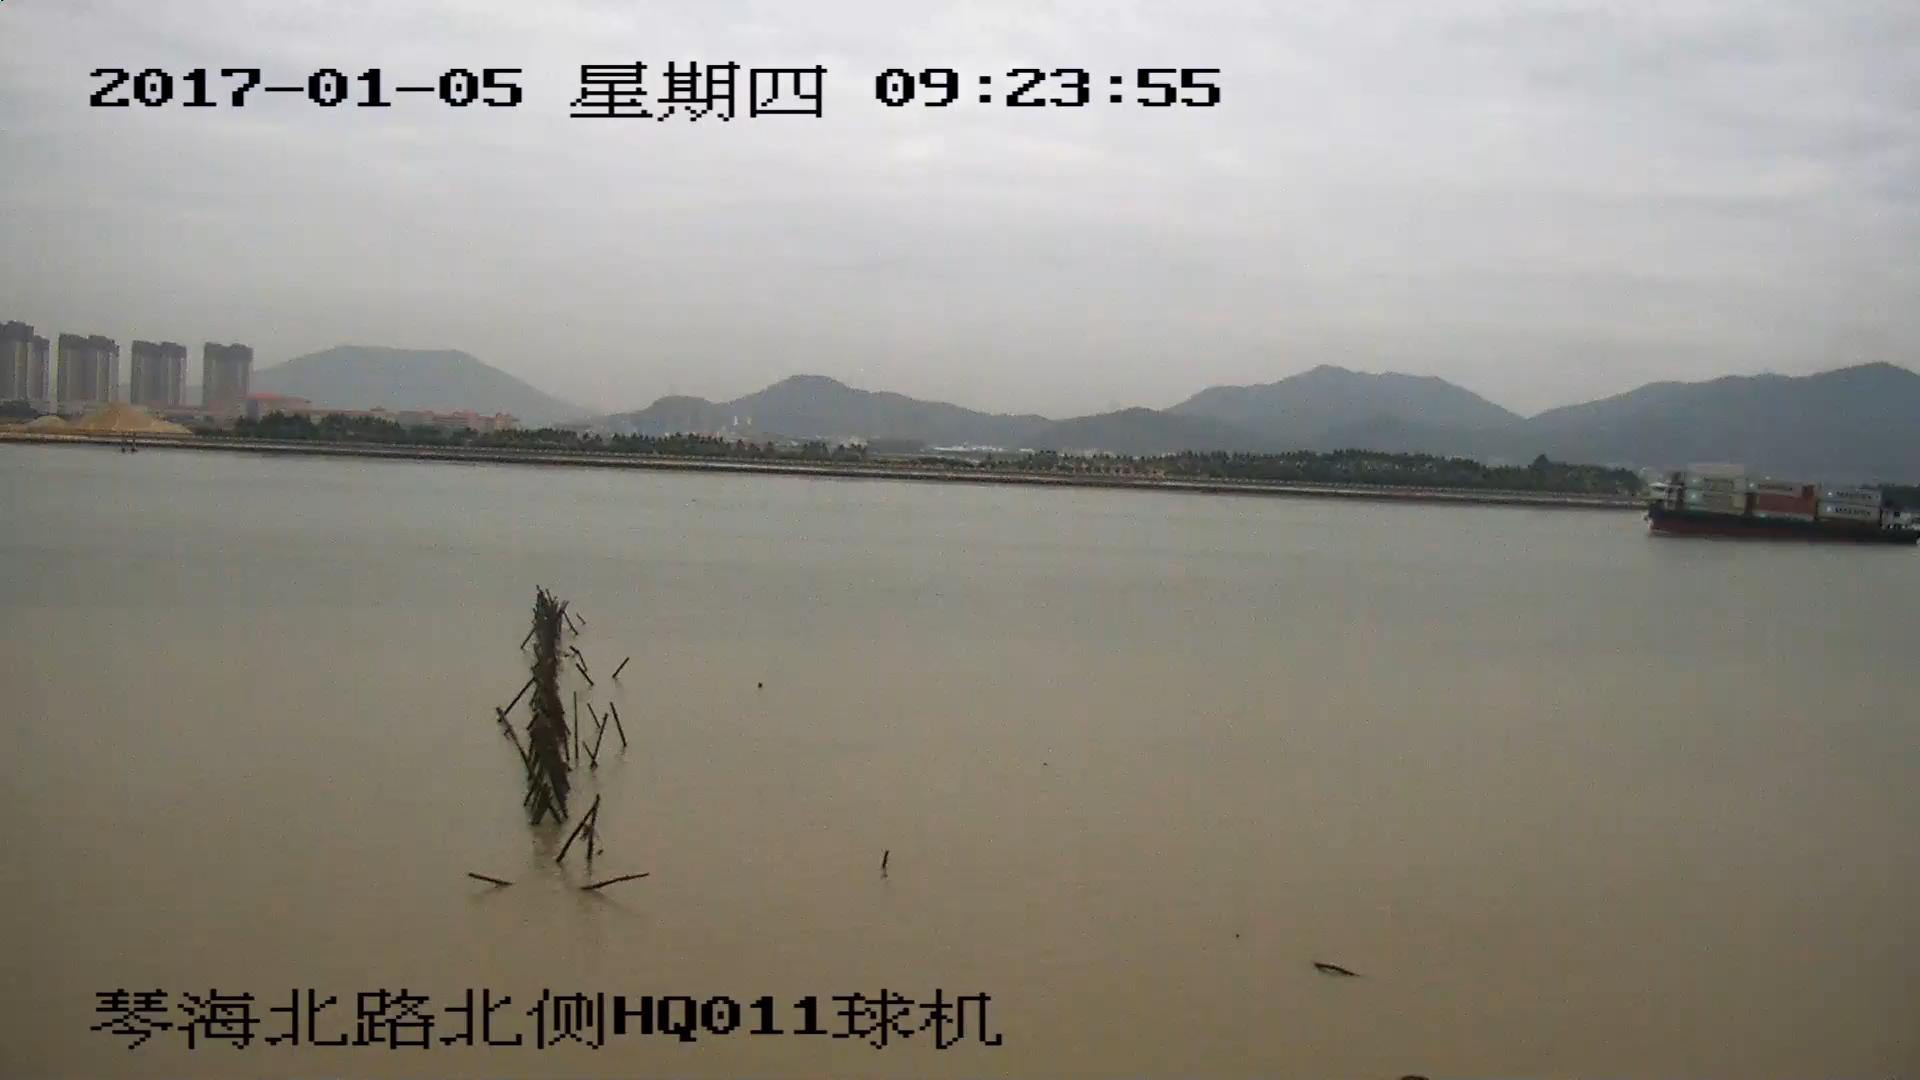container ship: (1640, 474, 1920, 546)
